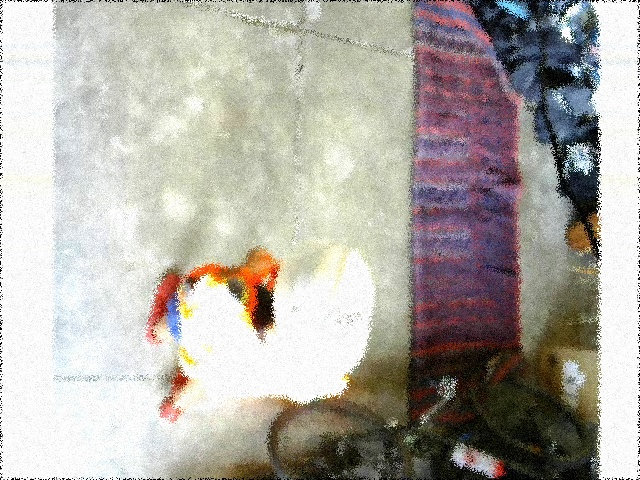eight: (318, 306, 364, 350)
